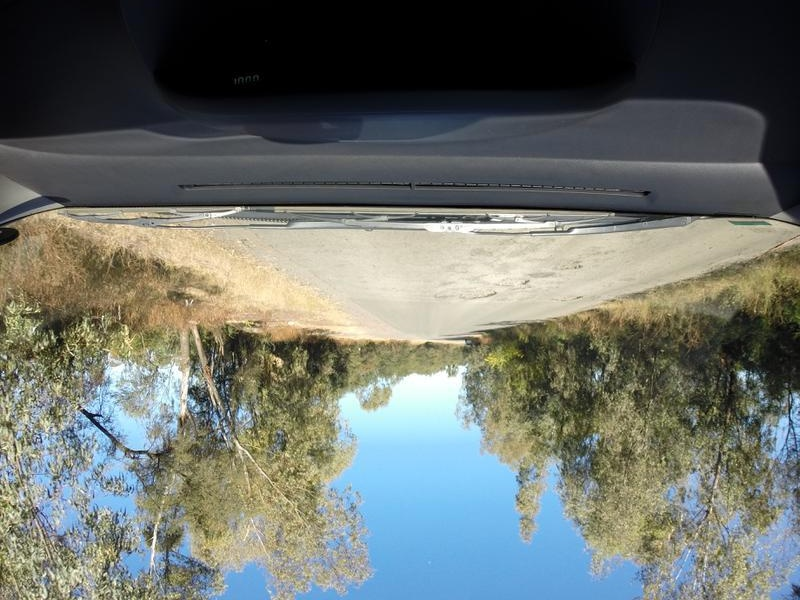pothole: (464, 287, 499, 301), (506, 276, 528, 287), (554, 261, 583, 268), (558, 295, 582, 303)
